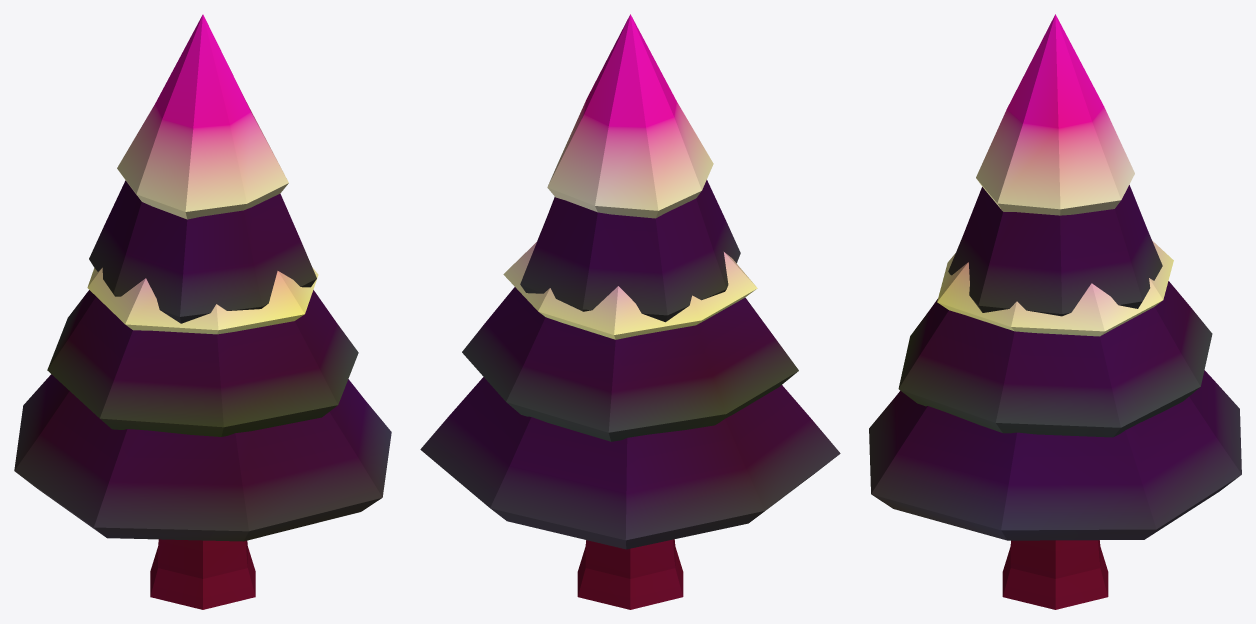
File: Tree_Pine_Snow_Medium.glb
3 views of the same model, side by side, from view 1: azimuth 30°, elevation 25°; view 2: azimuth 150°, elevation 25°; view 3: azimuth 270°, elevation 25° (orthographic).
Parts seen in each view (by area): view 1: Tree_Pine_Snow_Medium; view 2: Tree_Pine_Snow_Medium; view 3: Tree_Pine_Snow_Medium.
Part boxes in pixels (x1,y1,x2,y2): Tree_Pine_Snow_Medium: (14,14,391,609); Tree_Pine_Snow_Medium: (420,14,840,609); Tree_Pine_Snow_Medium: (869,14,1241,609).
Size of the model in its own units: 2.37 by 4 by 2.37.
